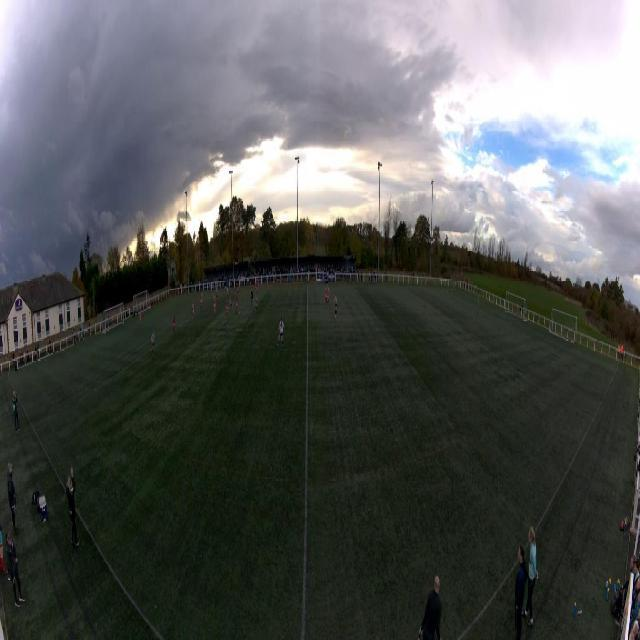ball: (239, 311, 240, 315)
player: (277, 316, 285, 348), (333, 292, 338, 318), (151, 330, 155, 359), (325, 286, 330, 306), (213, 297, 217, 317), (235, 297, 239, 314), (254, 296, 258, 312), (173, 316, 176, 335), (226, 299, 229, 318), (251, 289, 254, 306), (229, 297, 234, 307), (192, 298, 194, 319), (201, 293, 203, 310), (477, 297, 479, 314), (236, 289, 239, 300), (139, 311, 141, 326), (227, 287, 229, 298), (255, 283, 257, 294), (213, 289, 215, 299), (216, 288, 218, 298), (257, 284, 259, 294)
